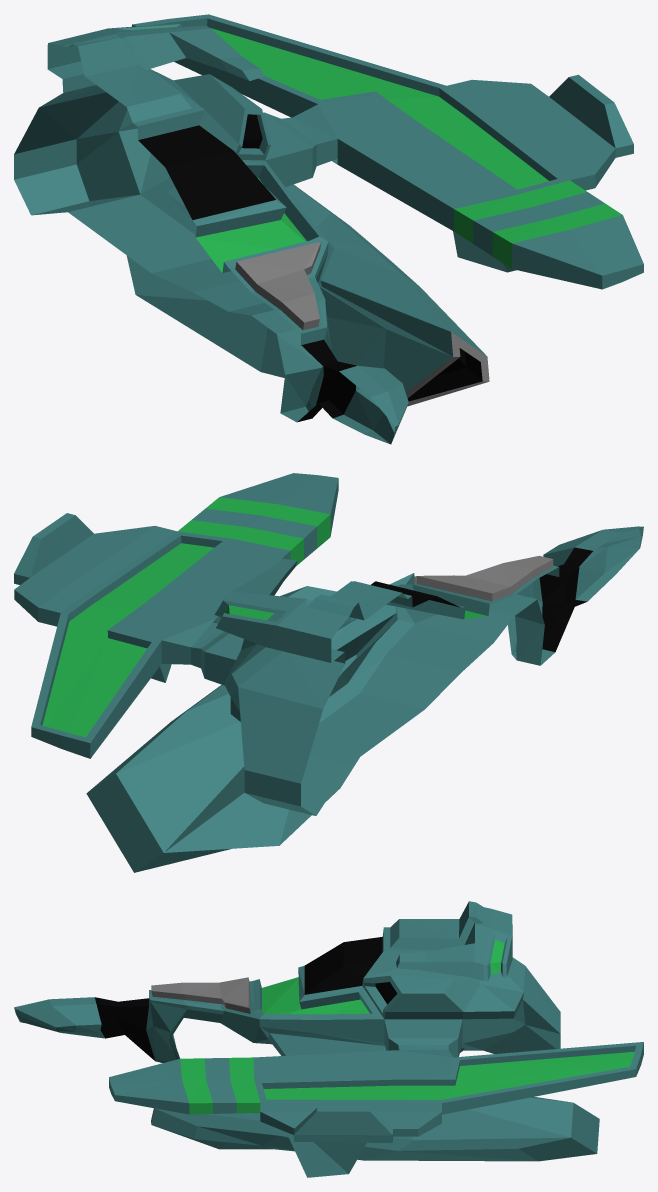
Rendered from ship.dae.
3 views of the same model, one above another, from view 1: azimuth 30°, elevation 25°; view 2: azimuth 150°, elevation 25°; view 3: azimuth 270°, elevation 25° (orthographic). The views are drawn at different scales.
Parts seen in each view (by area): view 1: Cube; view 2: Cube; view 3: Cube.
Part boxes in pixels (left/top/right/bottom): Cube: left=14, top=14, right=643, bottom=444; Cube: left=14, top=473, right=643, bottom=872; Cube: left=14, top=901, right=643, bottom=1177.
Size of the model in its own units: 6.02 by 10.51 by 3.88.
Materials: 1 (1 with a texture image).
